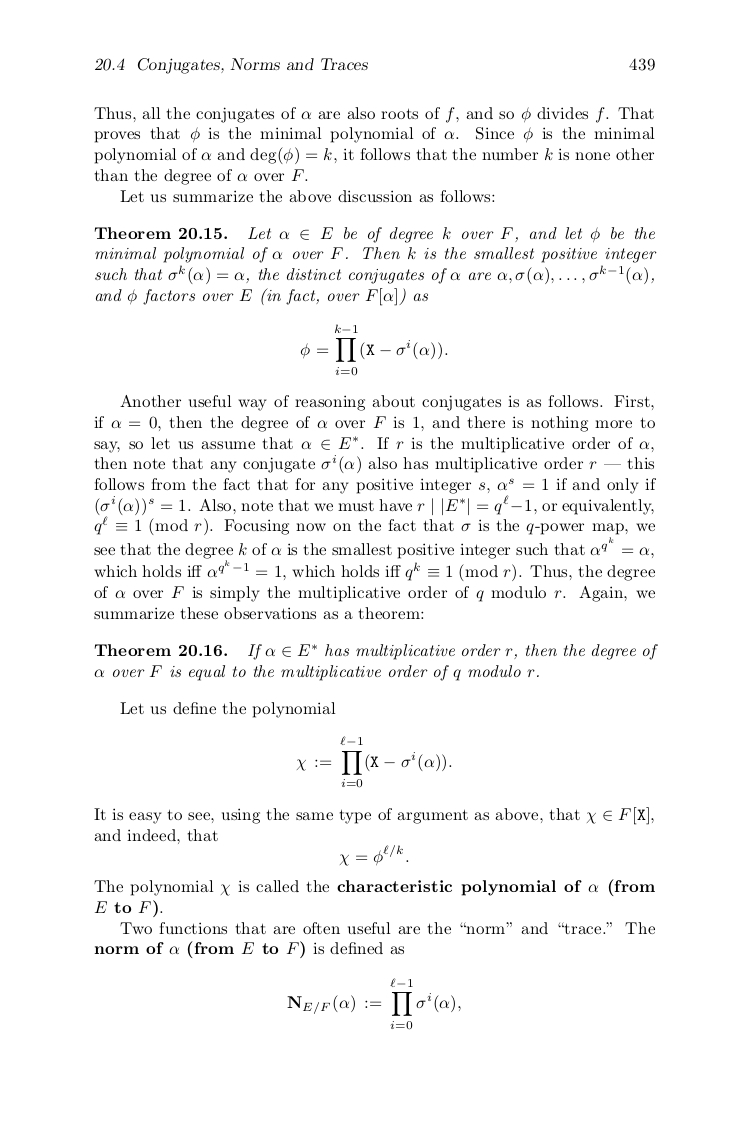formula: (287, 978, 460, 1029), (296, 736, 451, 787), (300, 324, 447, 375), (339, 845, 408, 865)
